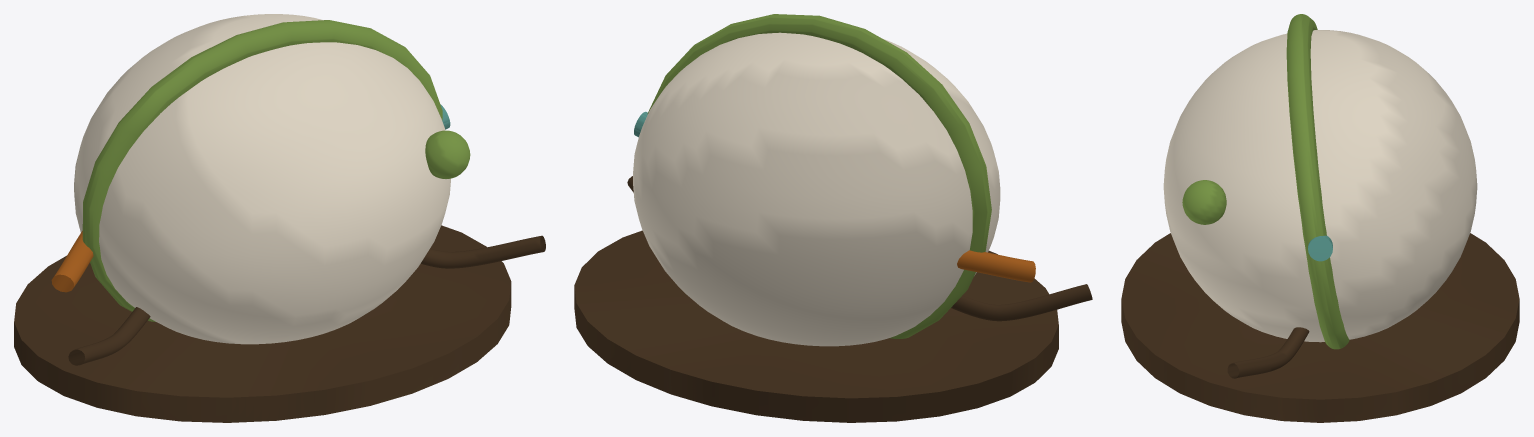
File: 1231_细胞图鉴_液泡.glb
The picture shows the model from 3 angles, left to right: view 1: azimuth 30°, elevation 25°; view 2: azimuth 150°, elevation 25°; view 3: azimuth 270°, elevation 25°; orthographic projection. The views are drawn at different scales.
Parts seen in each view (by area): view 1: card_1231; view 2: card_1231; view 3: card_1231.
Boxes of the visible parts, box(x1,y1,x2,y2) form: card_1231: box(14, 14, 545, 422); card_1231: box(574, 14, 1092, 422); card_1231: box(1121, 14, 1519, 422).
Size of the model in its own units: 1.57 by 1 by 1.23.
